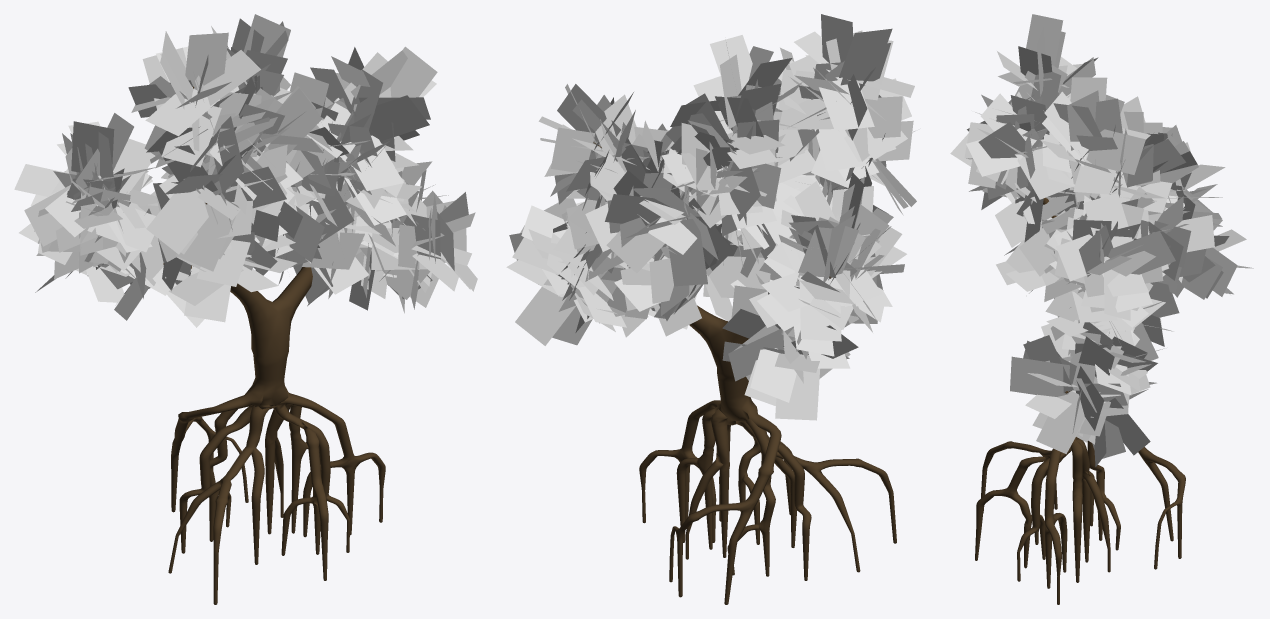
Rendered from Mangrove 1.fbx.
3 views of the same model, side by side, from view 1: azimuth 30°, elevation 25°; view 2: azimuth 150°, elevation 25°; view 3: azimuth 270°, elevation 25° (orthographic). The views are drawn at different scales.
Parts seen in each view (by area): view 1: Leaf Mangrove, Tronc Mangrove; view 2: Leaf Mangrove, Tronc Mangrove; view 3: Leaf Mangrove, Tronc Mangrove.
Part boxes in pixels (bbox=[...]): Leaf Mangrove: bbox=[14, 14, 477, 327]; Tronc Mangrove: bbox=[163, 86, 385, 604]; Leaf Mangrove: bbox=[506, 14, 916, 420]; Tronc Mangrove: bbox=[593, 142, 896, 604]; Leaf Mangrove: bbox=[950, 14, 1253, 466]; Tronc Mangrove: bbox=[975, 197, 1185, 604].
Bounding box in the file's own units: 439 × 560 × 315.
